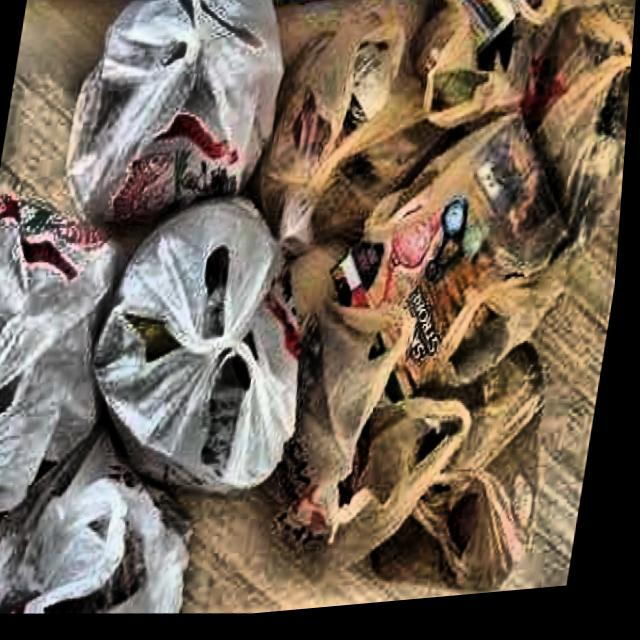Plastic: (86, 177, 338, 511), (331, 99, 588, 395), (256, 291, 489, 611), (53, 0, 346, 249), (0, 431, 226, 630), (417, 327, 572, 608)
